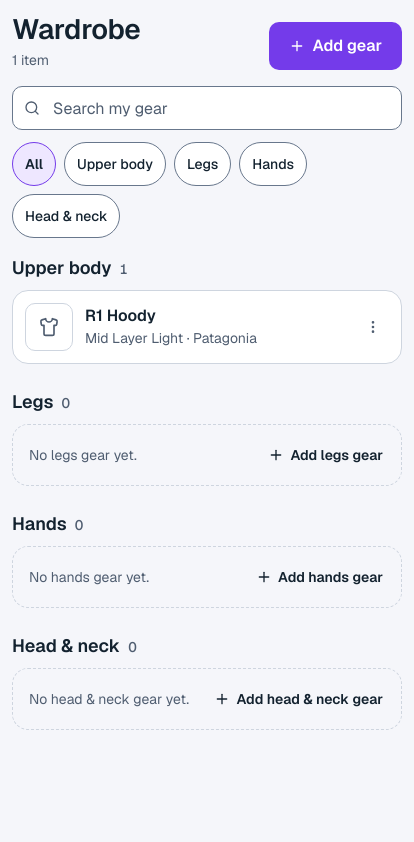
Wardrobe page › keeps focus on the row's actions when retrying a failed change
The image size is (414, 842).
Step 1. Click the button named "Actions for R1 Hoody" → (373, 327), box [351, 305, 395, 349]
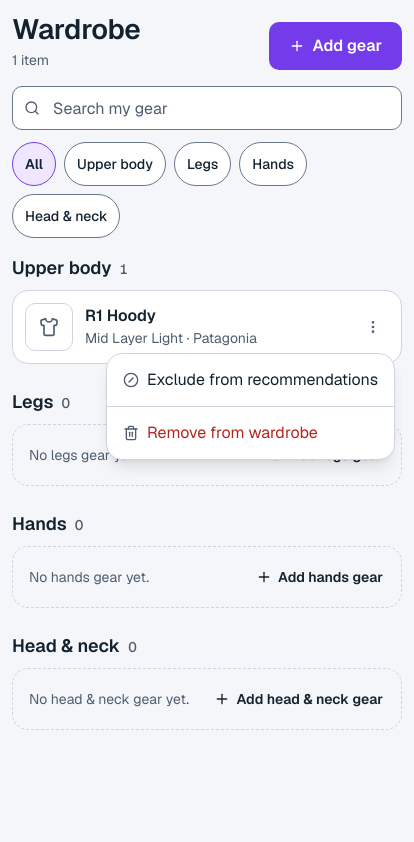
Step 2. Click the menu item "Exclude from recommendations" → (250, 380), box [123, 369, 378, 390]
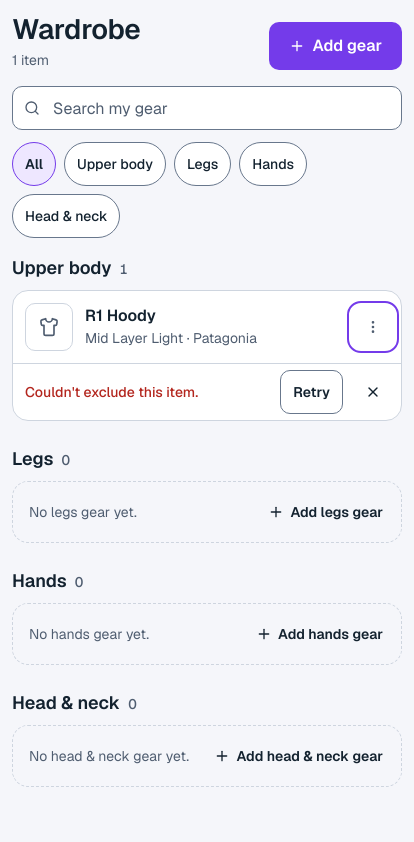
Step 3. Click the button "Retry" → (312, 392), box [280, 370, 343, 414]
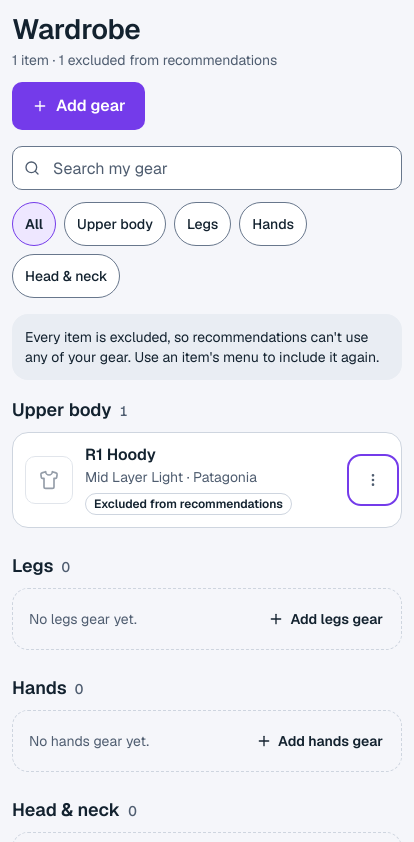
Expected: the text "Excluded from recommendations" is shown, [85, 493, 292, 515]
